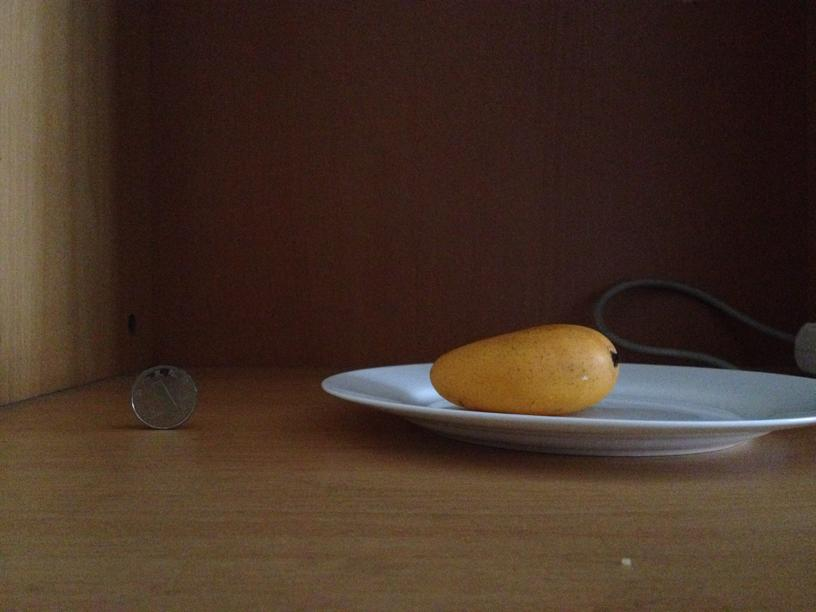coin: (124, 366, 199, 429)
mango: (430, 323, 617, 414)
